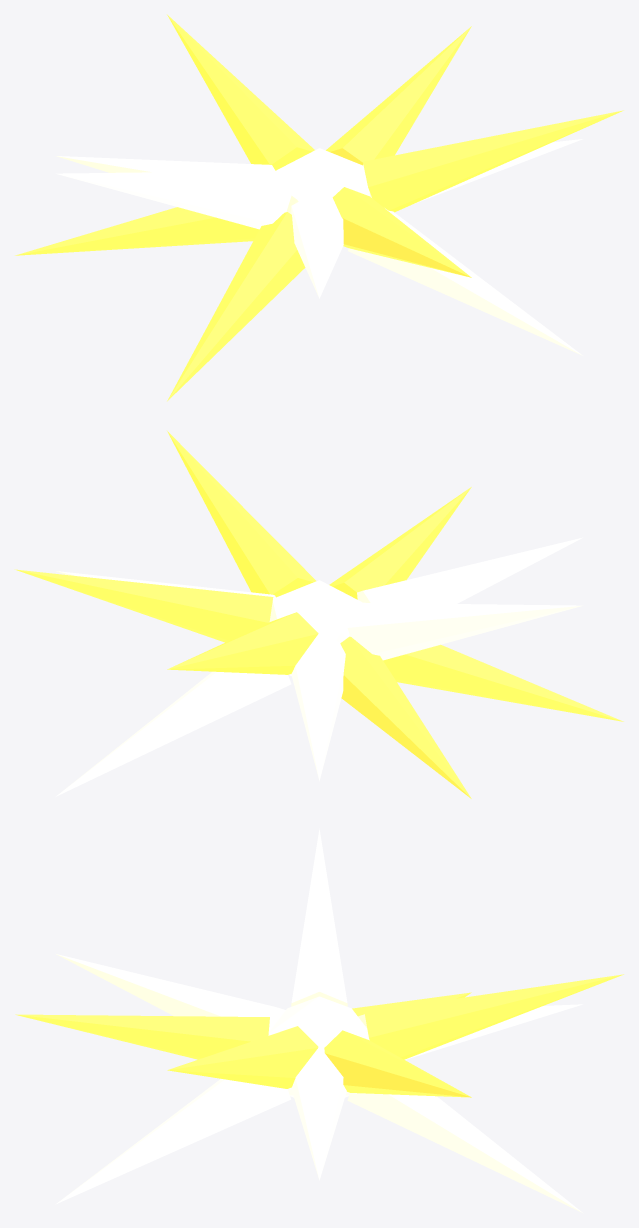
The model's file is fxHit.glb.
3 renders of one model, top to bottom at view 1: azimuth 30°, elevation 25°; view 2: azimuth 150°, elevation 25°; view 3: azimuth 270°, elevation 25°, orthographic.
Visible parts, largest first — view 1: FX03_HitBurst_Mesh; view 2: FX03_HitBurst_Mesh; view 3: FX03_HitBurst_Mesh.
Boxes of the visible parts, <box> form: FX03_HitBurst_Mesh: <box>15,14,623,401</box>; FX03_HitBurst_Mesh: <box>14,431,623,798</box>; FX03_HitBurst_Mesh: <box>15,828,623,1213</box>.
Bounding box in the file's own units: 0.0017 × 0.000589 × 0.0017.
